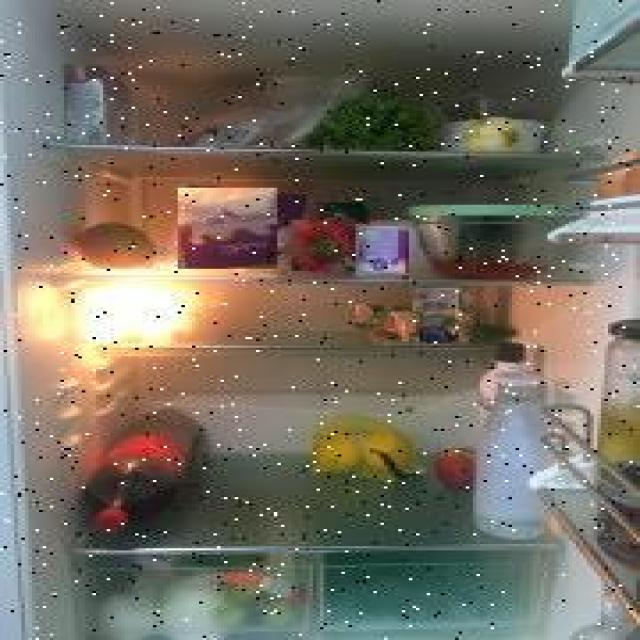apple: (432, 447, 475, 494)
bell_pepper: (292, 220, 356, 271)
garlic: (374, 312, 419, 342)
grated_cheese: (180, 188, 279, 269)
guacamole: (356, 305, 391, 329)
heavy_cream: (66, 63, 137, 144), (414, 286, 471, 343)
lemon: (313, 435, 363, 474)
mango: (75, 222, 156, 269)
salad: (331, 102, 441, 148)
yogurt: (355, 226, 409, 277)
